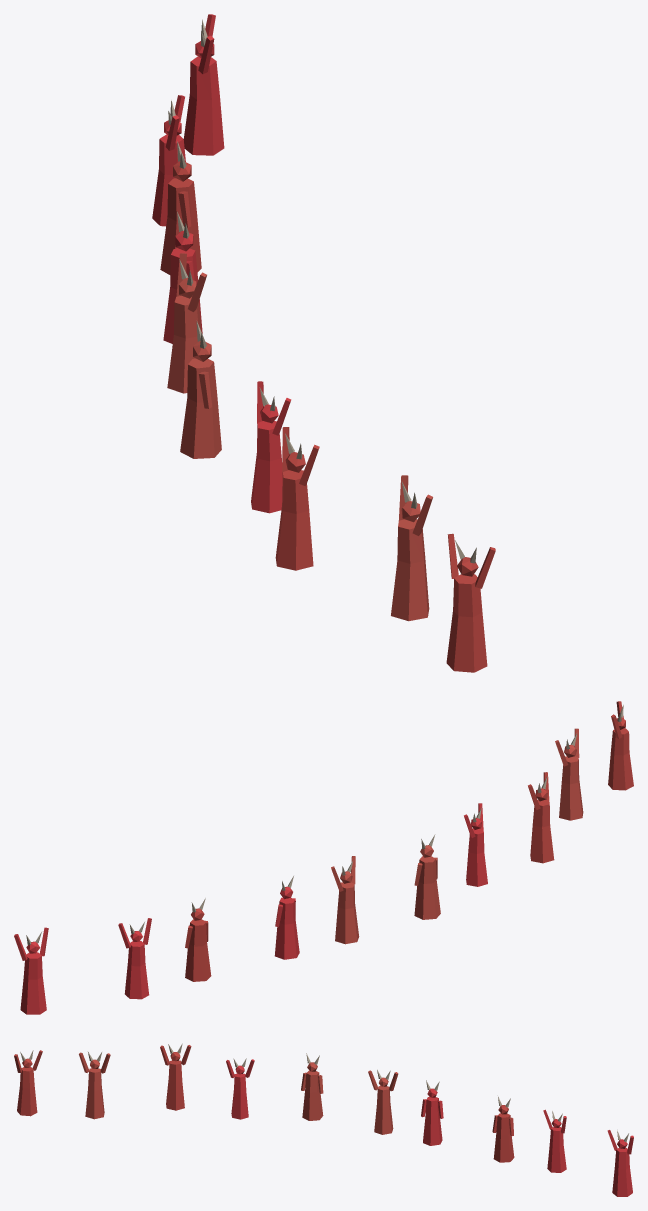
The model's file is Stands_6_0_1_Ice.obj.
3 renders of one model, top to bottom at view 1: azimuth 30°, elevation 25°; view 2: azimuth 150°, elevation 25°; view 3: azimuth 270°, elevation 25°, orthographic. The views are drawn at different scales.
Visible parts, largest first — view 1: Stands_6_0_1_Ice; view 2: Stands_6_0_1_Ice; view 3: Stands_6_0_1_Ice.
Part boxes in pixels (x1=…): Stands_6_0_1_Ice: x1=152, y1=14, x2=495, y2=672; Stands_6_0_1_Ice: x1=14, y1=701, x2=633, y2=1014; Stands_6_0_1_Ice: x1=14, y1=1043, x2=633, y2=1196.
Bounding box in the file's own units: 12.78 × 3.92 × 34.71.
Materials: 1 (1 with a texture image).
